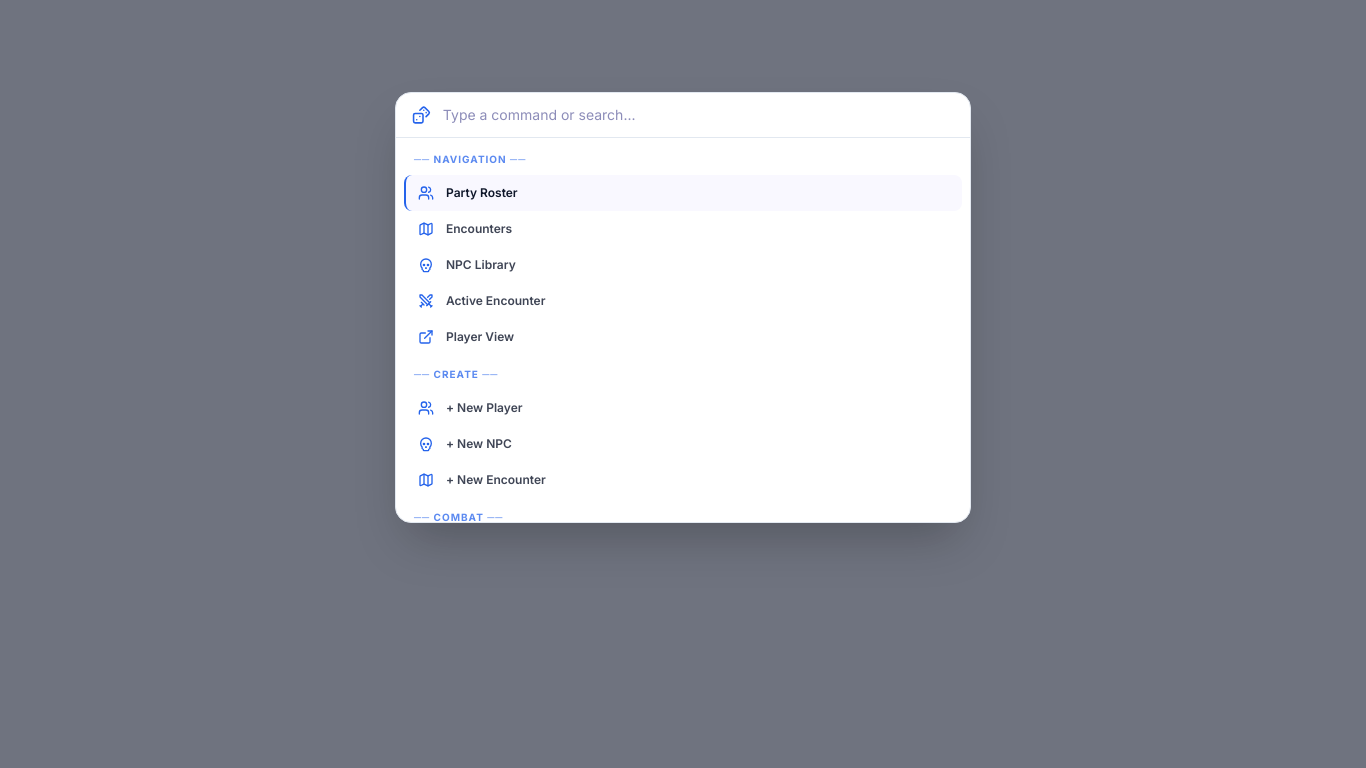
Scenario: CommandPalette › typing a spell name shows it in search results with level and school
Type "fireball" into the dropdown with placeholder "Type a command or search..." at (698, 115), box [443, 105, 954, 125]
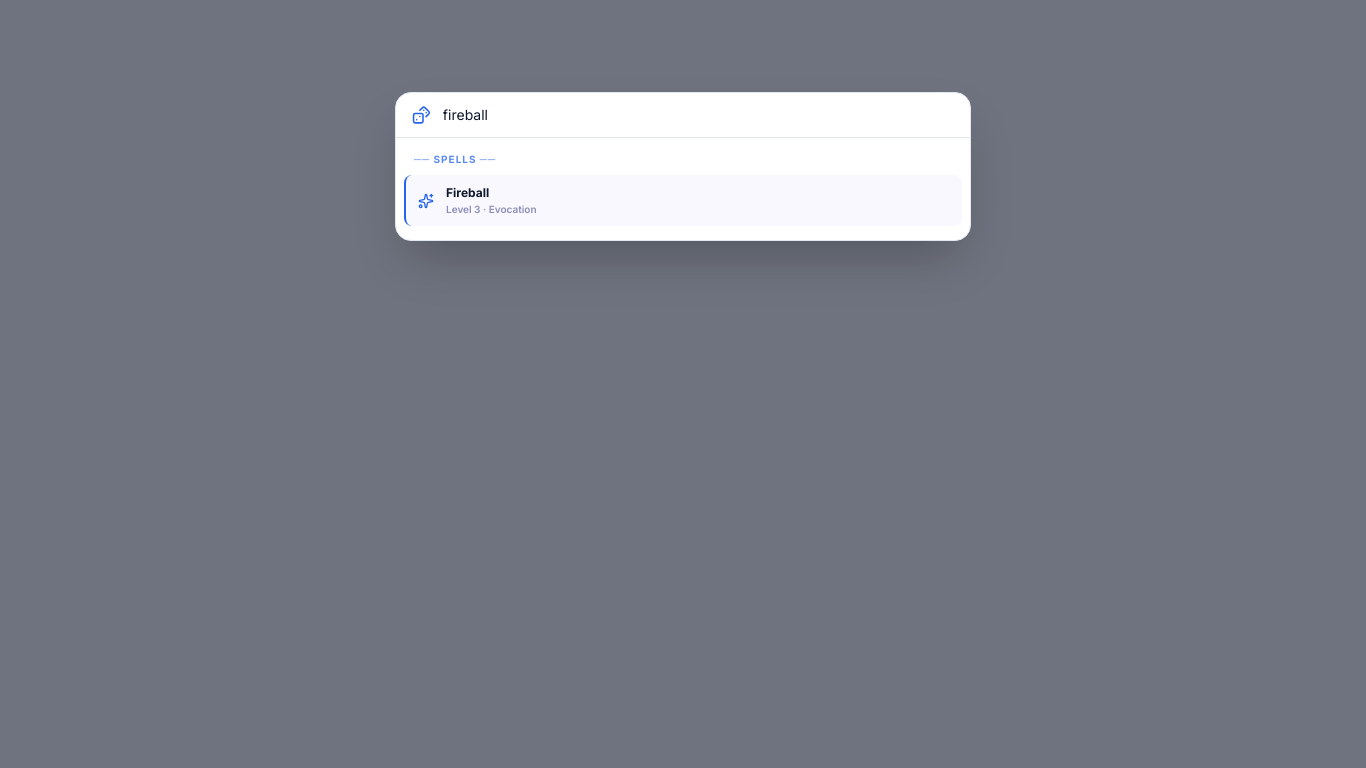
Result: the text "Fireball" is shown at [446, 185, 489, 200]
Result: the text "Level 3 · Evocation" is shown at [446, 203, 537, 216]
